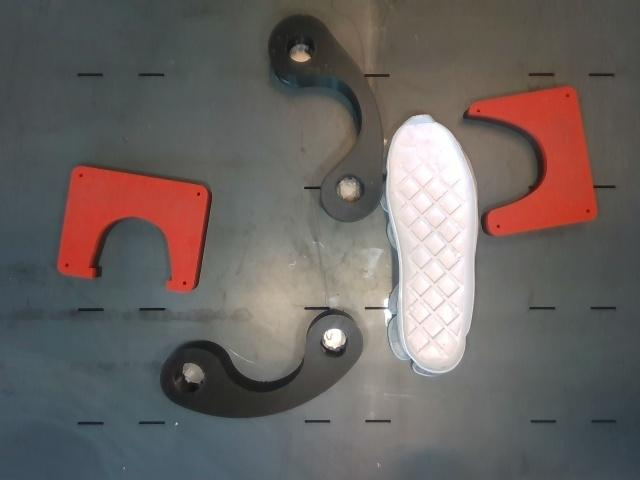shoes: (389, 117, 475, 371)
